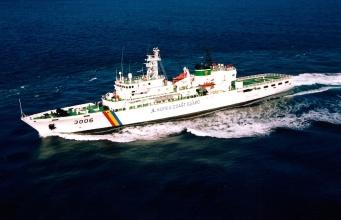warship: (18, 46, 300, 136)
